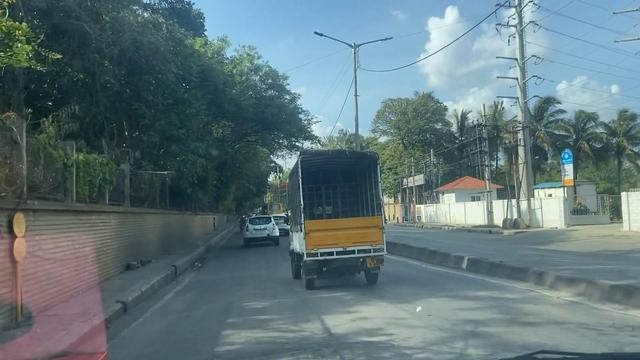HMV: (287, 150, 385, 285)
LMV: (242, 213, 280, 243)
RoadDamages: (240, 337, 345, 360)
